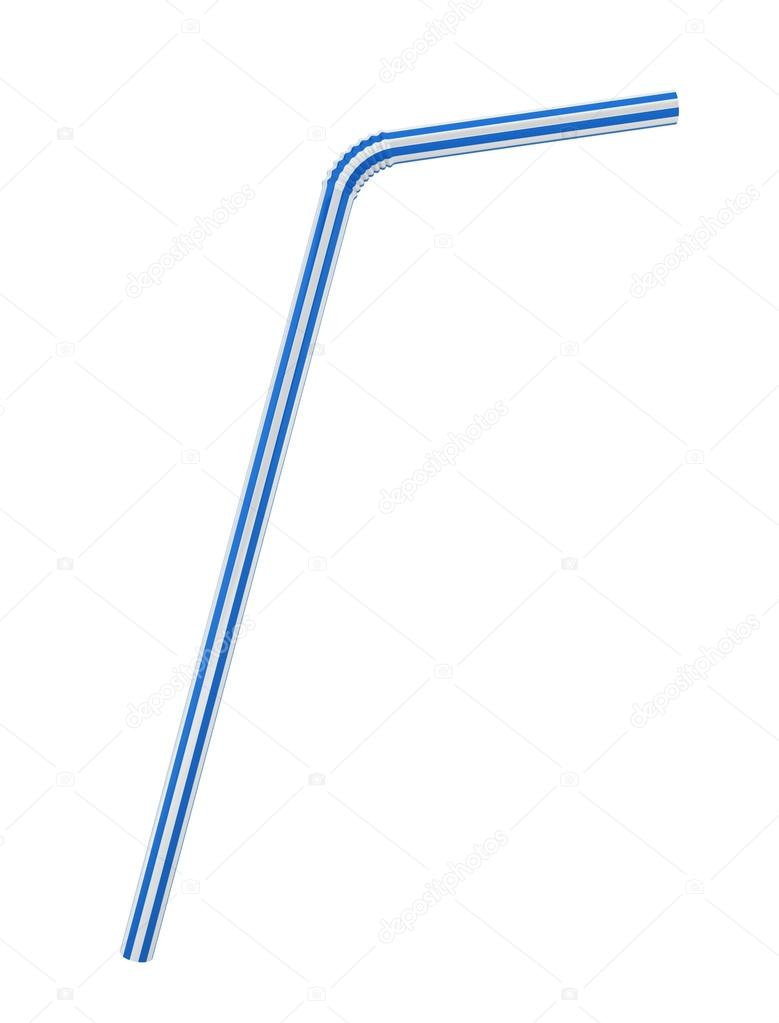Drinking Straw: (111, 84, 686, 969)
